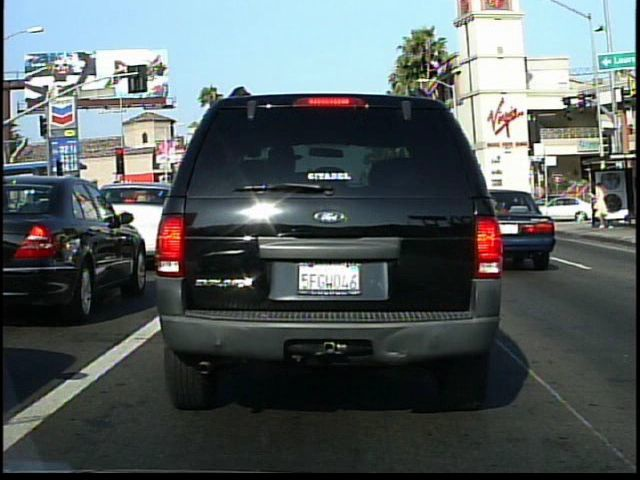person: (589, 176, 614, 232)
